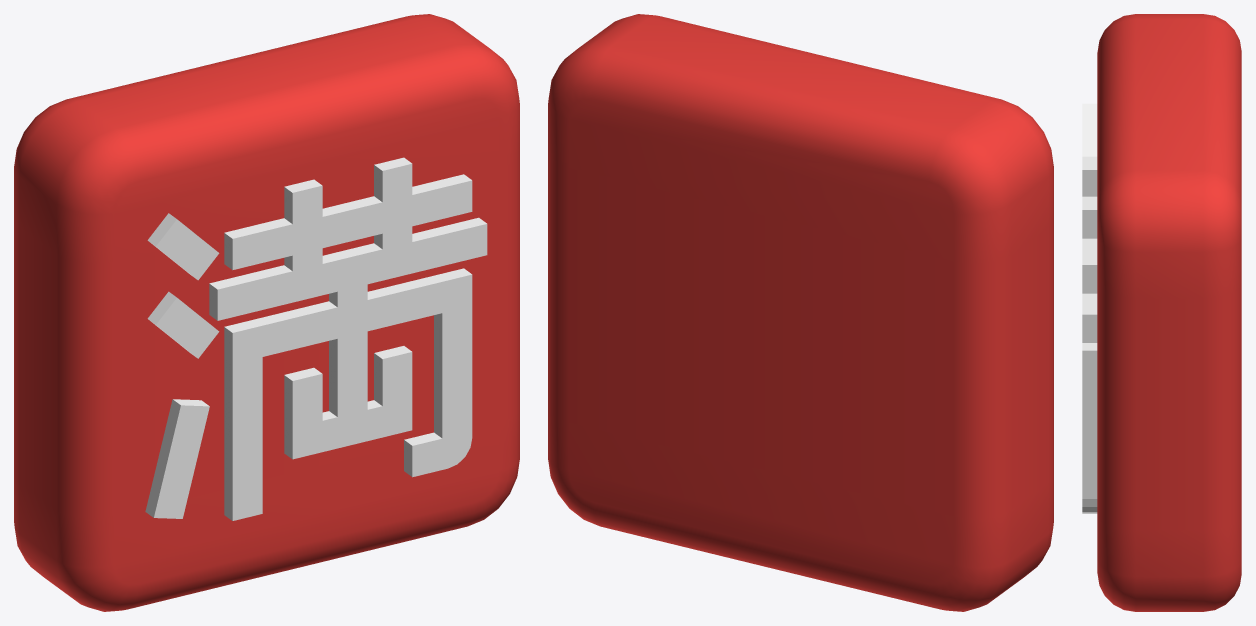
Rendered from japanese_no_vacancy_button.fbx.
3 views of the same model, side by side, from view 1: azimuth 30°, elevation 25°; view 2: azimuth 150°, elevation 25°; view 3: azimuth 270°, elevation 25° (orthographic). The views are drawn at different scales.
Parts seen in each view (by area): view 1: Cube.6661, Plane.377; view 2: Cube.6661; view 3: Cube.6661, Plane.377.
Part boxes in pixels (x1=…): Cube.6661: x1=14, y1=14, x2=519, y2=611; Plane.377: x1=145, y1=157, x2=487, y2=520; Cube.6661: x1=548, y1=14, x2=1053, y2=611; Cube.6661: x1=1097, y1=14, x2=1241, y2=611; Plane.377: x1=1082, y1=103, x2=1097, y2=513.
Bounding box in the file's own units: 220 × 220 × 73.
1 material, 1 textured.
